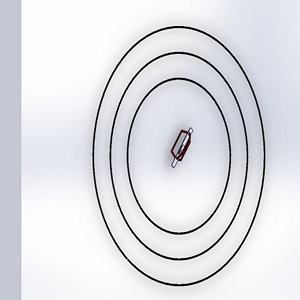circle: (85, 22, 278, 290)
submarine: (162, 122, 200, 174)
